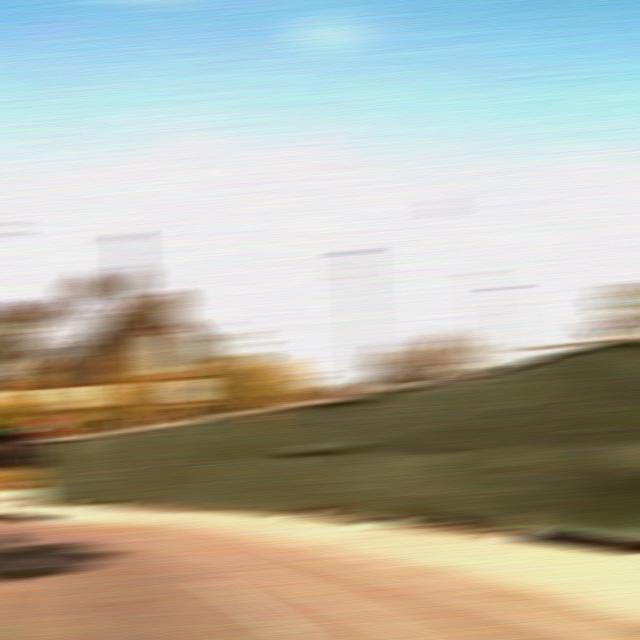stop_sign: (30, 414, 64, 438)
